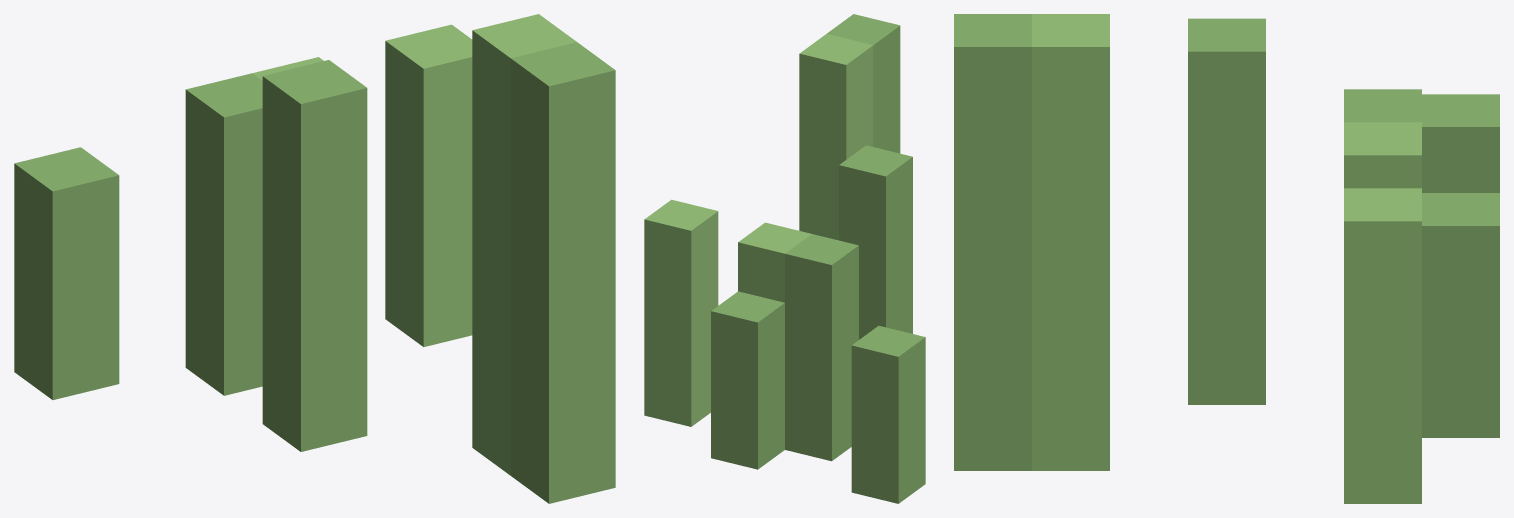
Rendered from hierba_corta_06.glb.
The picture shows the model from 3 angles, left to right: view 1: azimuth 30°, elevation 25°; view 2: azimuth 150°, elevation 25°; view 3: azimuth 270°, elevation 25°; orthographic projection. The views are drawn at different scales.
Visible parts, largest first — view 1: hierba_corta_06; view 2: hierba_corta_06; view 3: hierba_corta_06.
Boxes of the visible parts, <box> form: hierba_corta_06: <box>14,14,615,503</box>; hierba_corta_06: <box>644,14,925,503</box>; hierba_corta_06: <box>954,14,1499,503</box>.
Bounding box in the file's own units: 0.6 × 0.6 × 0.7.
